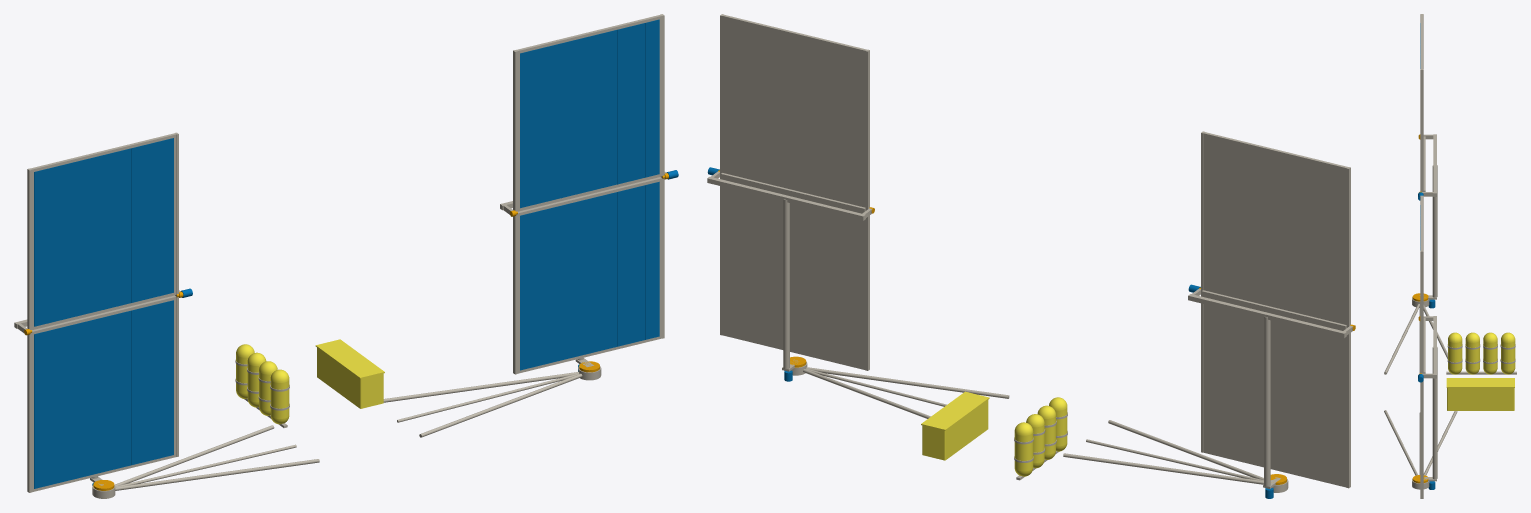
Rendered from power_system.glb.
3 views of the same model, side by side, from view 1: azimuth 30°, elevation 25°; view 2: azimuth 150°, elevation 25°; view 3: azimuth 270°, elevation 25° (orthographic). The views are drawn at different scales.
Parts seen in each view (by area): view 1: Port_Panel_Lower_GaInP_Cells, Starboard_Panel_Lower_GaInP_Cells, Starboard_Panel_Upper_GaInP_Cells, Port_Panel_Upper_GaInP_Cells, Starboard_Panel_Upper_Substrate, Starboard_Panel_Lower_Substrate, Port_Panel_Upper_Substrate, Port_Panel_Lower_Substrate, Avionics_WarmBox, Starboard_Wing_Side_Frame_1, Port_Wing_Side_Frame_1, Avionics_Radiator (+7 smaller); view 2: Starboard_Panel_Upper_Substrate, Port_Panel_Upper_Substrate, Port_Panel_Lower_Substrate, Starboard_Panel_Lower_Substrate, Avionics_WarmBox, Port_Wing_Side_Frame_1, Starboard_Wing_Side_Frame_1, Port_Yoke_Crossbar, Starboard_Yoke_Crossbar, Starboard_Mast_Post, Port_Mast_Post, Avionics_Radiator (+8 smaller); view 3: Avionics_WarmBox, Starboard_Wing_Side_Frame_2, Starboard_Mast_Post, Avionics_Radiator, Port_Mast_Post, H2O2_Reactant_Tank_1, H2O2_Reactant_Tank_2, H2O2_Reactant_Tank_3, H2O2_Reactant_Tank_4, Port_Wing_Side_Frame_2, Port_Outrigger_Beam_1, Starboard_Outrigger_Beam_1 (+7 smaller).
Boxes of the visible parts, box(x1,y1,x2,y2) form: Port_Panel_Lower_GaInP_Cells: box(34, 300, 173, 488); Starboard_Panel_Lower_GaInP_Cells: box(520, 181, 659, 370); Starboard_Panel_Upper_GaInP_Cells: box(520, 19, 659, 208); Port_Panel_Upper_GaInP_Cells: box(34, 138, 173, 326); Starboard_Panel_Upper_Substrate: box(516, 14, 662, 211); Starboard_Panel_Lower_Substrate: box(517, 177, 662, 373); Port_Panel_Upper_Substrate: box(30, 133, 176, 329); Port_Panel_Lower_Substrate: box(31, 295, 176, 492); Avionics_WarmBox: box(317, 347, 383, 408); Starboard_Wing_Side_Frame_1: box(513, 50, 517, 374); Port_Wing_Side_Frame_1: box(27, 168, 31, 492); Avionics_Radiator: box(315, 339, 384, 378); Starboard_Panel_Upper_Substrate: box(722, 14, 867, 207); Port_Panel_Upper_Substrate: box(1203, 132, 1347, 324); Port_Panel_Lower_Substrate: box(1203, 304, 1346, 487); Starboard_Panel_Lower_Substrate: box(722, 186, 865, 370); Avionics_WarmBox: box(922, 400, 988, 460); Port_Wing_Side_Frame_1: box(1346, 167, 1350, 488); Starboard_Wing_Side_Frame_1: box(865, 49, 869, 370); Port_Yoke_Crossbar: box(1188, 294, 1346, 338); Starboard_Yoke_Crossbar: box(707, 176, 865, 220); Starboard_Mast_Post: box(783, 199, 789, 369); Port_Mast_Post: box(1264, 316, 1270, 486); Avionics_Radiator: box(921, 391, 989, 430); Avionics_WarmBox: box(1447, 388, 1514, 410); Starboard_Wing_Side_Frame_2: box(1420, 250, 1423, 498); Starboard_Mast_Post: box(1432, 347, 1437, 479); Avionics_Radiator: box(1446, 378, 1514, 387); Port_Mast_Post: box(1432, 165, 1437, 297); H2O2_Reactant_Tank_1: box(1448, 332, 1462, 374); H2O2_Reactant_Tank_2: box(1465, 332, 1479, 374); H2O2_Reactant_Tank_3: box(1483, 332, 1497, 374); H2O2_Reactant_Tank_4: box(1501, 332, 1515, 374); Port_Wing_Side_Frame_2: box(1420, 69, 1423, 191); Port_Outrigger_Beam_1: box(1384, 304, 1419, 374); Starboard_Outrigger_Beam_1: box(1384, 410, 1417, 475).
Bounding box in the file's own units: 3.59 × 1.82 × 0.8278.
